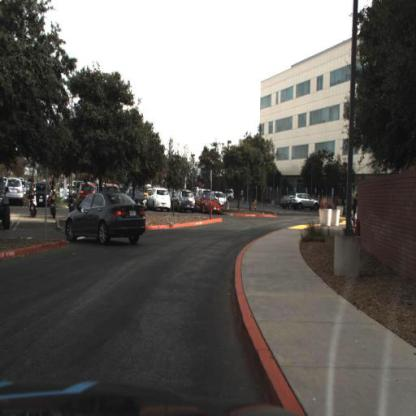car: (64, 187, 148, 249), (196, 189, 225, 218), (3, 167, 15, 235), (172, 186, 200, 215), (4, 171, 27, 206), (30, 179, 54, 209), (148, 186, 172, 213), (290, 191, 321, 211), (214, 186, 229, 208), (225, 184, 236, 202)
